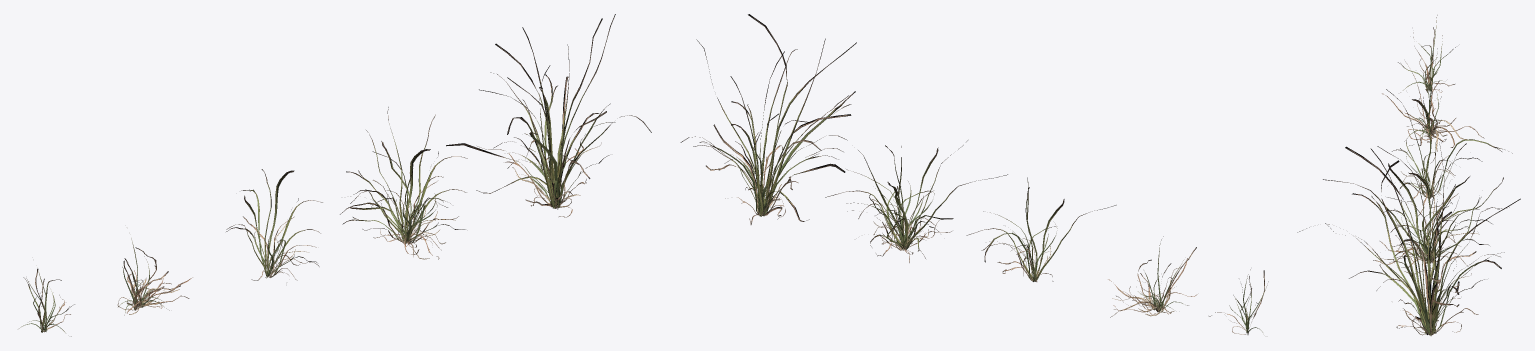
The model's file is grass_medium_02_4k.gltf.
3 views of the same model, side by side, from view 1: azimuth 30°, elevation 25°; view 2: azimuth 150°, elevation 25°; view 3: azimuth 270°, elevation 25° (orthographic). The views are drawn at different scales.
Parts seen in each view (by area): view 1: grass_medium_02_e, grass_medium_02_d, grass_medium_02_c, grass_medium_02_b, grass_medium_02_a; view 2: grass_medium_02_e, grass_medium_02_d, grass_medium_02_c, grass_medium_02_b, grass_medium_02_a; view 3: grass_medium_02_e, grass_medium_02_d, grass_medium_02_c, grass_medium_02_b, grass_medium_02_a.
Part boxes in pixels (box(x1,y1,x2,y2)): grass_medium_02_e: box(446, 14, 651, 217); grass_medium_02_d: box(340, 107, 467, 259); grass_medium_02_c: box(226, 169, 322, 280); grass_medium_02_b: box(117, 238, 192, 315); grass_medium_02_a: box(19, 268, 74, 336); grass_medium_02_e: box(680, 14, 856, 224); grass_medium_02_d: box(825, 140, 1007, 262); grass_medium_02_c: box(966, 177, 1116, 281); grass_medium_02_b: box(1108, 236, 1197, 317); grass_medium_02_a: box(1209, 269, 1268, 334); grass_medium_02_e: box(1297, 142, 1520, 335); grass_medium_02_d: box(1323, 143, 1509, 274); grass_medium_02_c: box(1386, 89, 1512, 215); grass_medium_02_b: box(1382, 48, 1484, 151); grass_medium_02_a: box(1398, 15, 1455, 92).
Size of the model in its own units: 1.31 by 0.4053 by 0.4332.
1 material, 1 textured.
